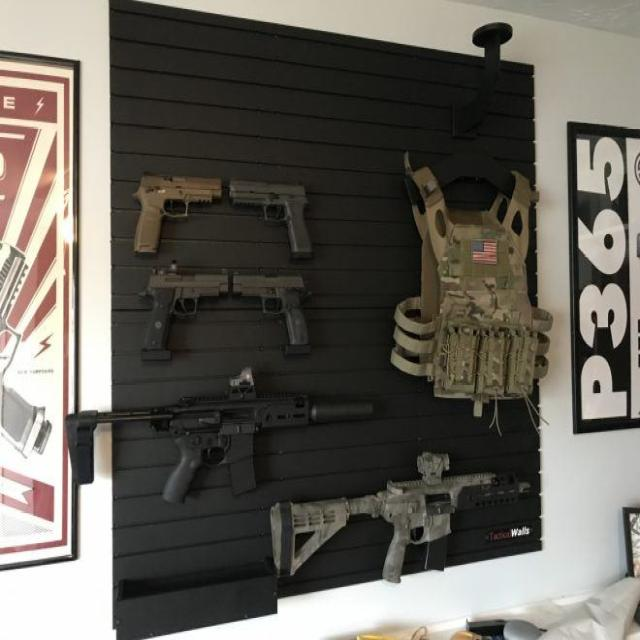HandGun: (142, 273, 229, 361), (133, 176, 223, 255), (230, 181, 312, 253), (234, 274, 309, 345)
Rifle: (66, 368, 374, 504), (270, 453, 529, 583)
